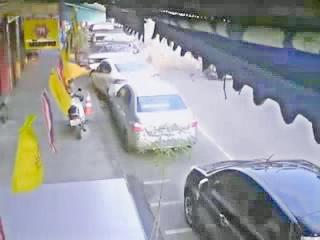Car: (191, 155, 320, 240), (118, 84, 191, 149), (91, 61, 154, 90), (89, 41, 143, 66), (63, 90, 88, 135), (86, 22, 116, 38)
Minor Accident: (89, 40, 151, 91)
